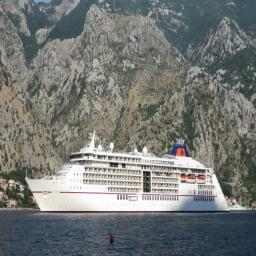cruises: (26, 127, 231, 216)
